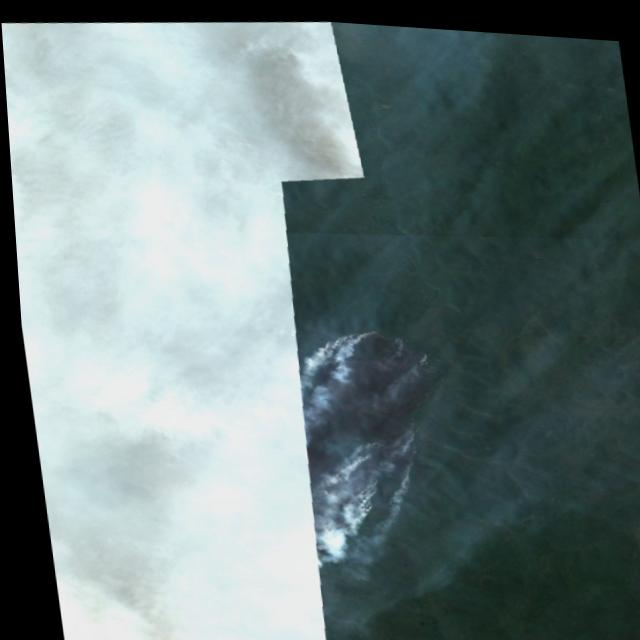fire: (277, 312, 457, 551)
